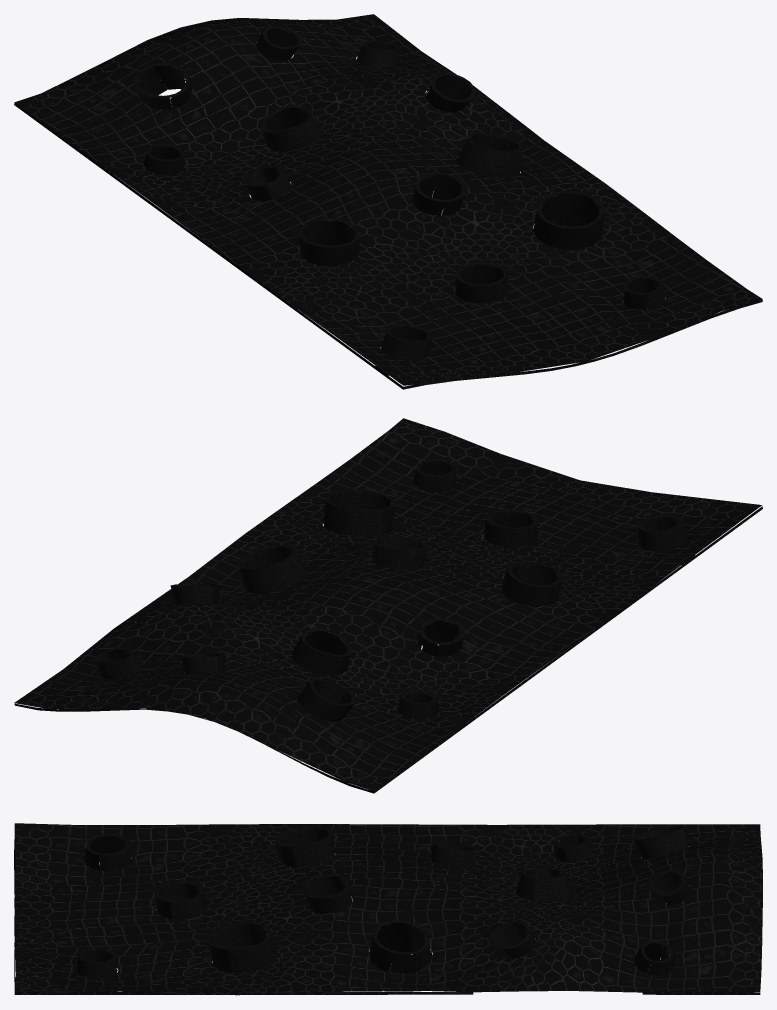
Rendered from spooky-blackigator-carpet-v87.glb.
3 renders of one model, top to bottom at view 1: azimuth 30°, elevation 25°; view 2: azimuth 150°, elevation 25°; view 3: azimuth 270°, elevation 25°, orthographic. The views are drawn at different scales.
Parts seen in each view (by area): view 1: spooky-blackigator-carpet; view 2: spooky-blackigator-carpet; view 3: spooky-blackigator-carpet.
Part boxes in pixels (bbox=[...]): spooky-blackigator-carpet: bbox=[14, 14, 762, 389]; spooky-blackigator-carpet: bbox=[14, 418, 762, 793]; spooky-blackigator-carpet: bbox=[14, 823, 762, 995].
Size of the model in its own units: 3.12 by 0.6929 by 5.87.
1 material, 1 textured.
